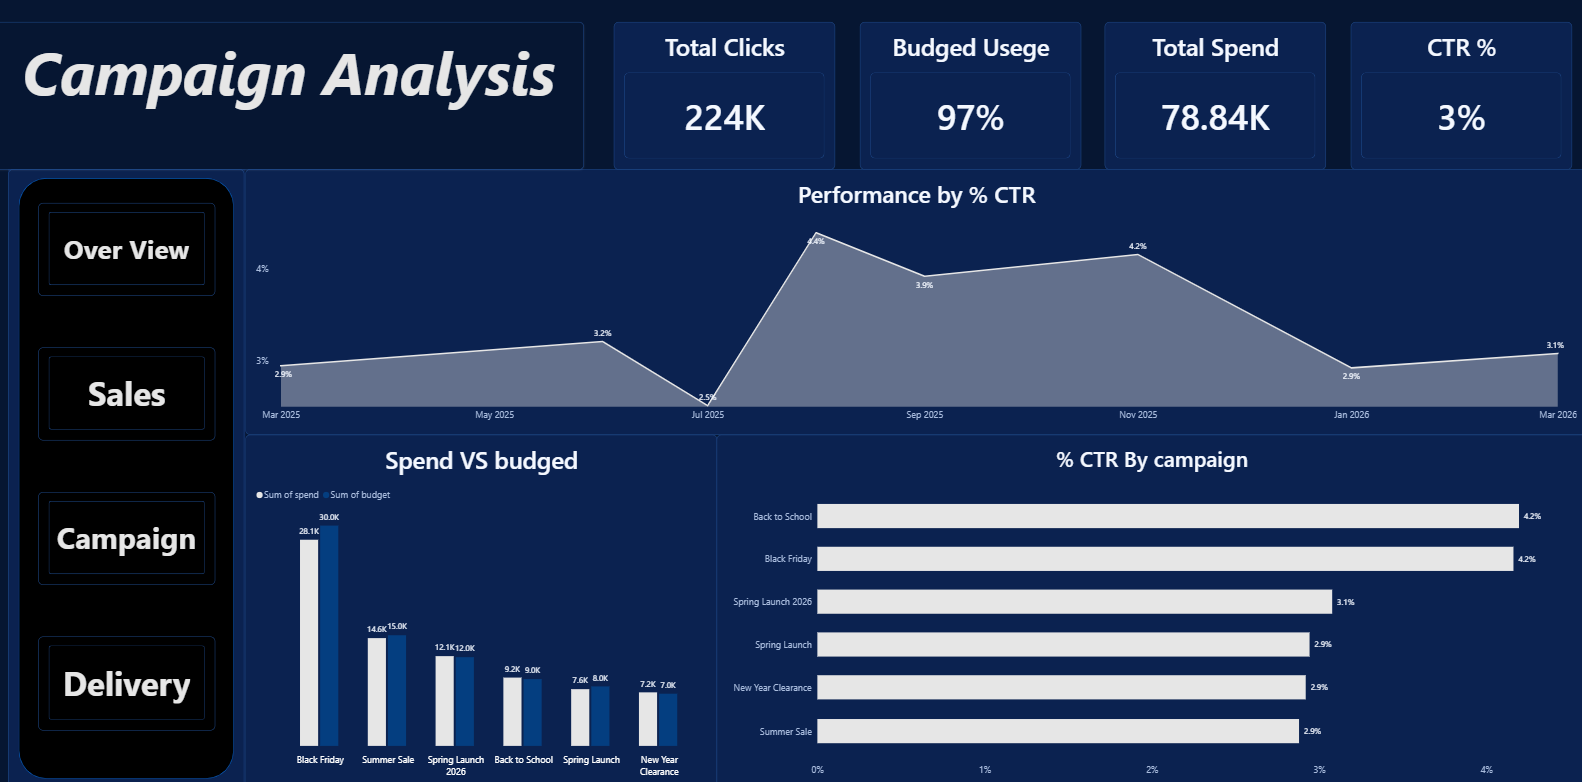

The page's visual inventory and layout, read from the dashboard file:
{"tool":"powerbi","page":{"name":"campaign","canvas":[2600,1300],"ordinal":2},"visuals":[{"type":"group","id":"g1","title":"Group 1","box":[24,288,384,1008],"z":0,"group":"g2"},{"type":"shape","box":[24,288,384,1008],"z":0,"group":"g3"},{"type":"clusteredColumnChart","title":"Spend VS budged ","fields":{"Category":["dim_campaign.campaign_name"],"Y":["Sum(fact_campaign_spend.spend)","Sum(dim_campaign.budget)"]},"box":[408,720,768,576],"z":0},{"type":"actionButton","box":[72,343.6,288,151.2],"z":1000,"group":"g2"},{"type":"clusteredBarChart","title":"% CTR By campaign","fields":{"Category":["dim_campaign.campaign_name"],"Y":["_measures.% CTR"]},"box":[1176,720,1416,576],"z":1000},{"type":"cardVisual","title":"CTR %","fields":{"Data":["_measures.% CTR"]},"box":[2208,48,360,240],"z":2000},{"type":"actionButton","box":[72,578.8,288,151.2],"z":2000,"group":"g2"},{"type":"cardVisual","title":"Total Spend","fields":{"Data":["_measures.Total spend"]},"box":[1808,48,360,240],"z":3000},{"type":"actionButton","box":[72,814,288,151.2],"z":3000,"group":"g2"},{"type":"cardVisual","title":"Budged Usege","fields":{"Data":["_measures.budged usege"]},"box":[1408,48,360,240],"z":4000},{"type":"actionButton","box":[72,1049.2,288,151.2],"z":4000,"group":"g2"},{"type":"areaChart","title":"Performance by % CTR","fields":{"Category":["dim_date.Date.Variation.Date Hierarchy.Year","dim_date.Date.Variation.Date Hierarchy.Month"],"Y":["_measures.% CTR"]},"box":[408,288,2184,432],"z":5000},{"type":"group","id":"g2","title":"Group 3","box":[24,288,384,1008],"z":6000},{"type":"cardVisual","title":"Total Clicks","fields":{"Data":["Sum(fact_campaign_spend.clicks)"]},"box":[1008,48,360,240],"z":7000},{"type":"textbox","box":[0,48,960,240],"z":8000},{"type":"group","id":"g3","title":"Group 2","box":[24,288,384,1008],"z":9007,"group":"g1"}]}

Visuals, with their boxes in screenshot pixels (x1, y1, x2, y2), scaled from the page's 2600x1300 canvas onto the 1582x782 screenshot:
"Group 1" group: 15 173 248 780
shape: 15 173 248 780
"Spend VS budged " clusteredColumnChart: 248 433 716 780
actionButton: 44 207 219 298
"% CTR By campaign" clusteredBarChart: 716 433 1577 780
"CTR %" cardVisual: 1343 29 1563 173
actionButton: 44 348 219 439
"Total Spend" cardVisual: 1100 29 1319 173
actionButton: 44 490 219 581
"Budged Usege" cardVisual: 857 29 1076 173
actionButton: 44 631 219 722
"Performance by % CTR" areaChart: 248 173 1577 433
"Group 3" group: 15 173 248 780
"Total Clicks" cardVisual: 613 29 832 173
textbox: 0 29 584 173
"Group 2" group: 15 173 248 780
